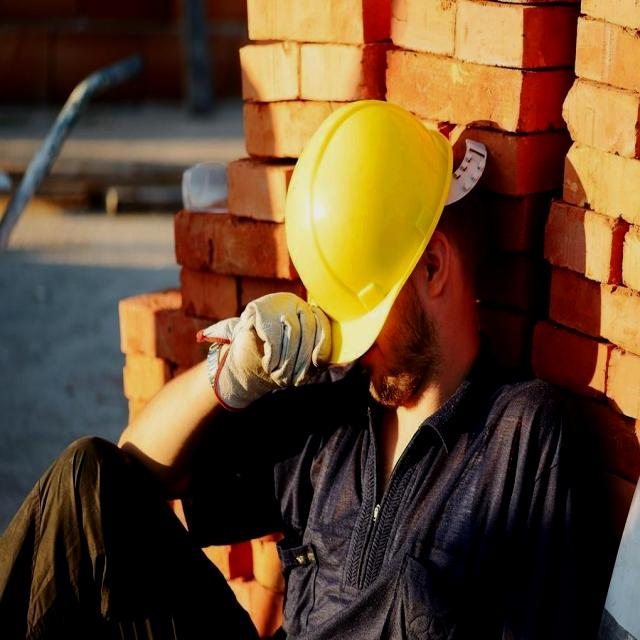hand_glove: (206, 288, 336, 409)
head_helmet: (286, 104, 454, 373)
person: (160, 107, 574, 640)
